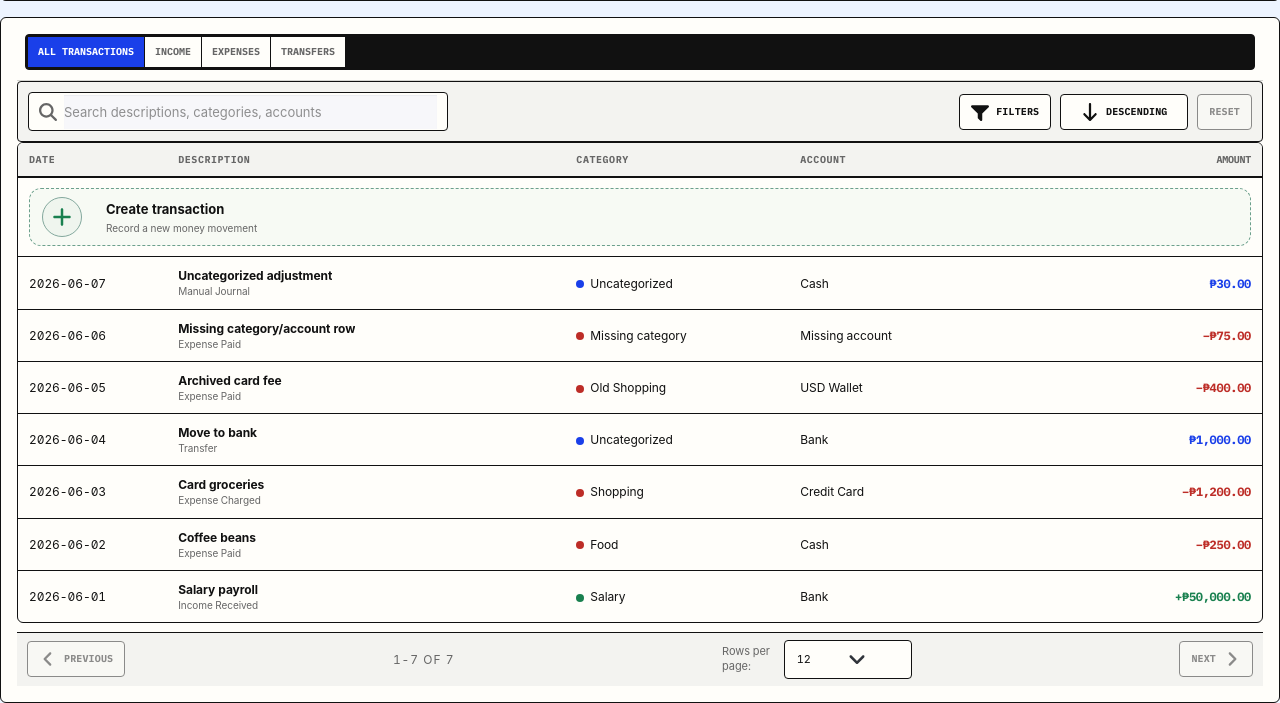
it: controlled transaction feature › separates expense accounts from categories and explains their balance impact
This screenshot has width=1280, height=703.
(page scrolled)
What coordinates should you click on to do the following:
click the text "Coffee beans"
I would click on:
 (217, 537)
Its box is 178,528 -> 256,546.
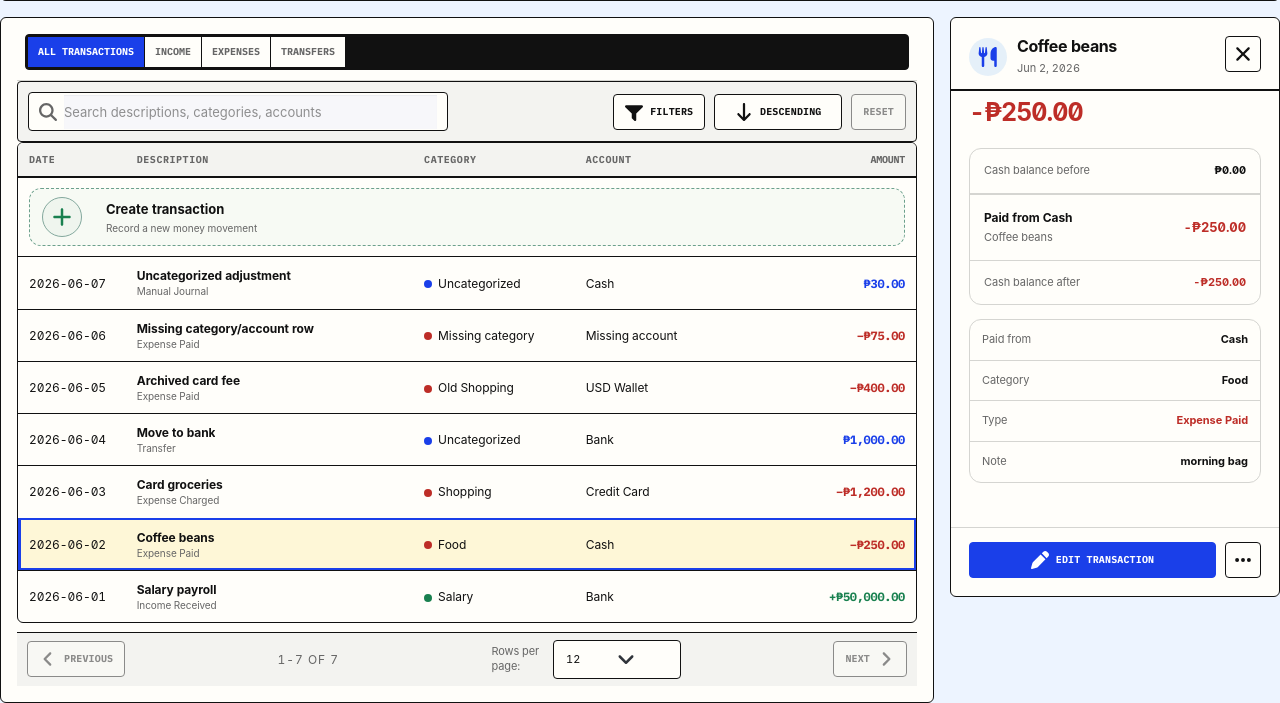
Expected: the text "Paid from Cash" is shown, 984,209 -> 1072,226
Expected: the text "Cash balance before" is shown, 984,163 -> 1090,179
Expected: the text "Cash balance after" is shown, 984,275 -> 1080,290
What coordinates should you click on to do the following:
click the button named "Close transaction detail"
I would click on:
 (1243, 54)
Its box is 1225,36 -> 1261,72.
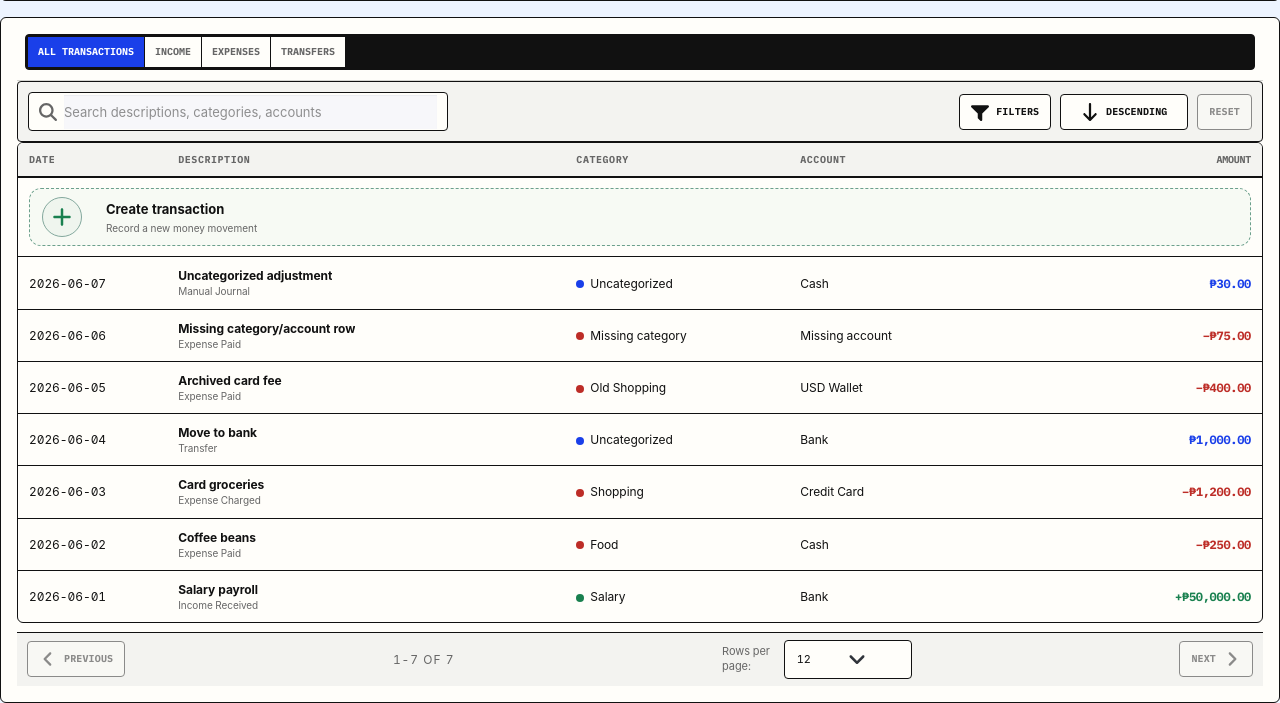
What coordinates should you click on to do the following:
click the text "Card groceries"
I would click on:
 (221, 485)
Its box is 178,476 -> 264,493.
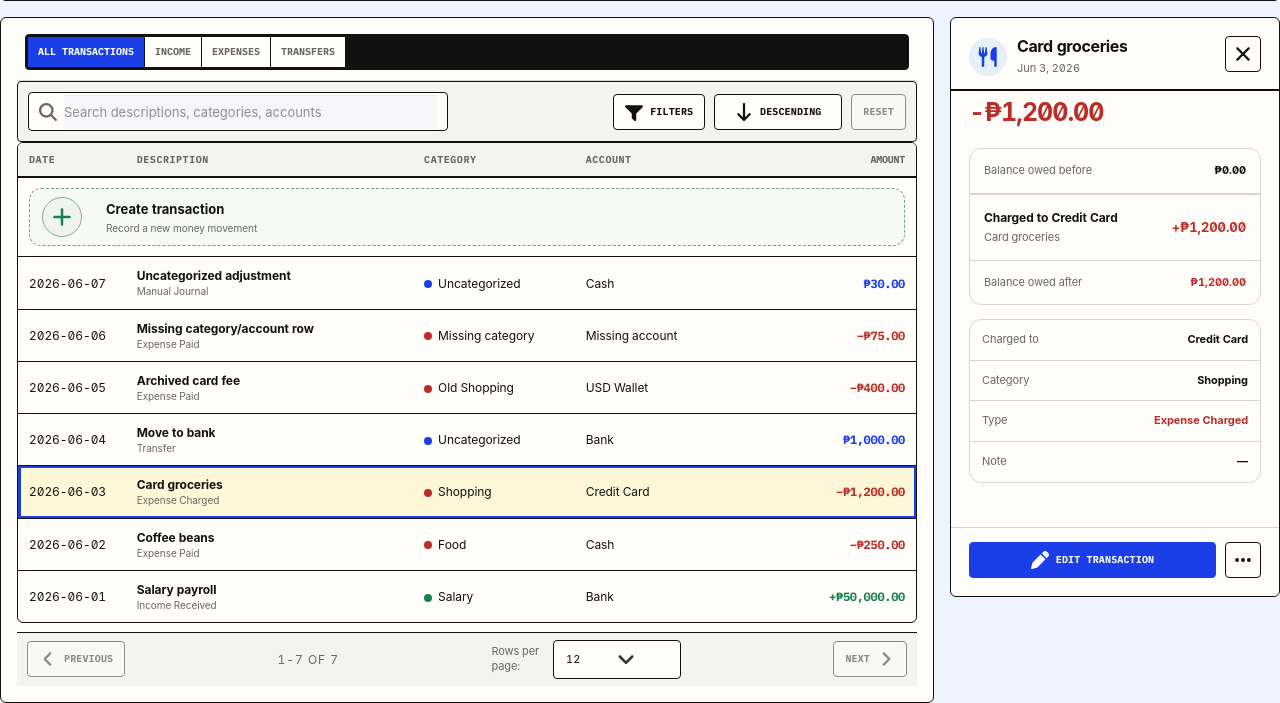
Expected: the text "Charged to Credit Card" is shown, 984,209 -> 1118,226
Expected: the text "Balance owed before" is shown, 984,163 -> 1092,179
Expected: the text "Balance owed after" is shown, 984,275 -> 1082,290
